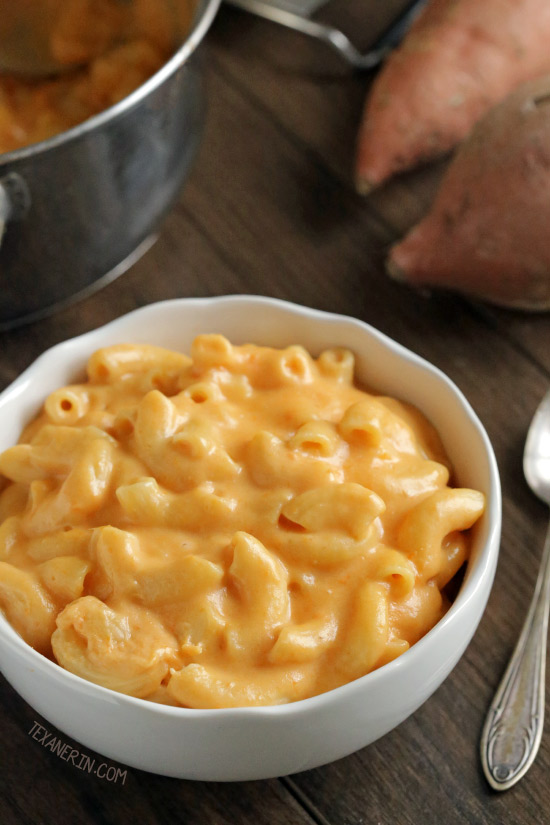macncheese: (57, 358, 420, 645)
